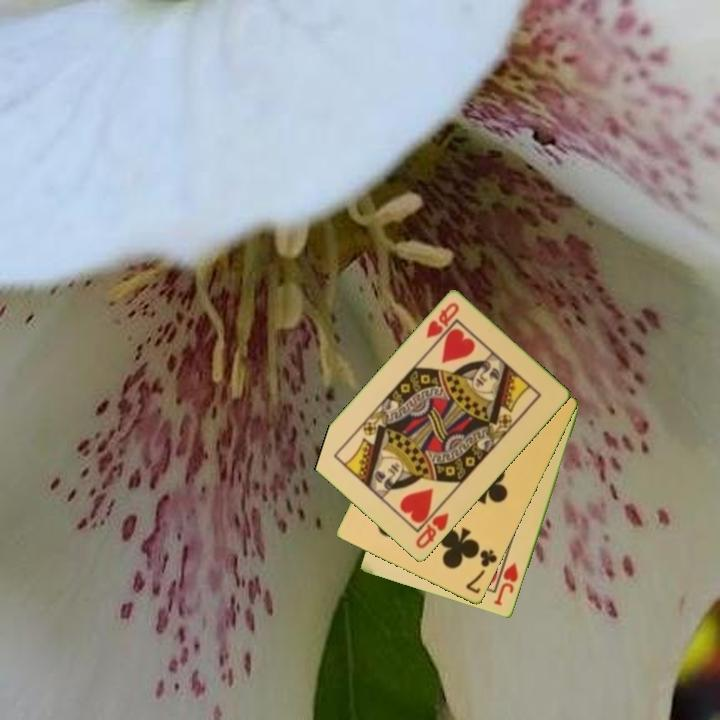7c: (462, 546, 500, 597)
Jh: (491, 559, 521, 609)
Qh: (412, 509, 452, 552), (422, 299, 462, 342)
